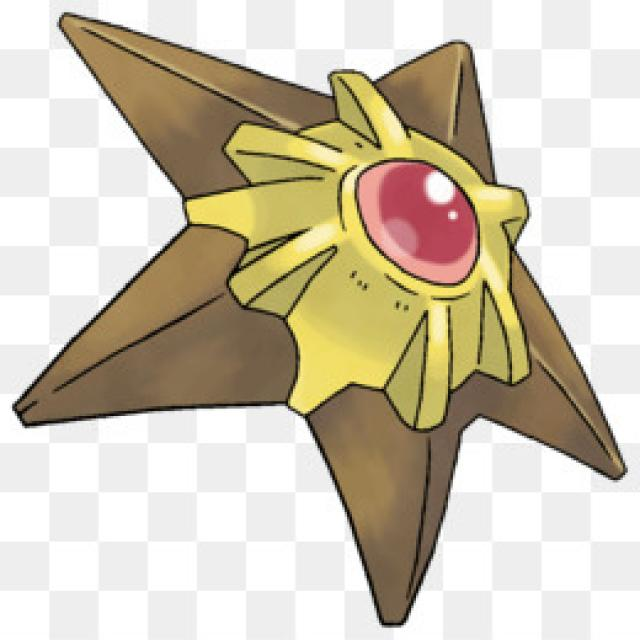Staryu: (51, 21, 628, 582)
